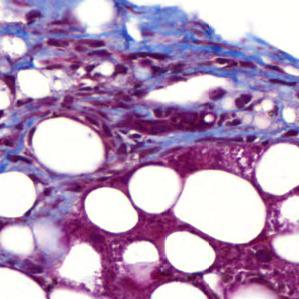steatosis: (83, 187, 141, 234), (255, 142, 299, 199), (164, 229, 216, 273), (0, 172, 38, 220), (151, 280, 210, 299)
